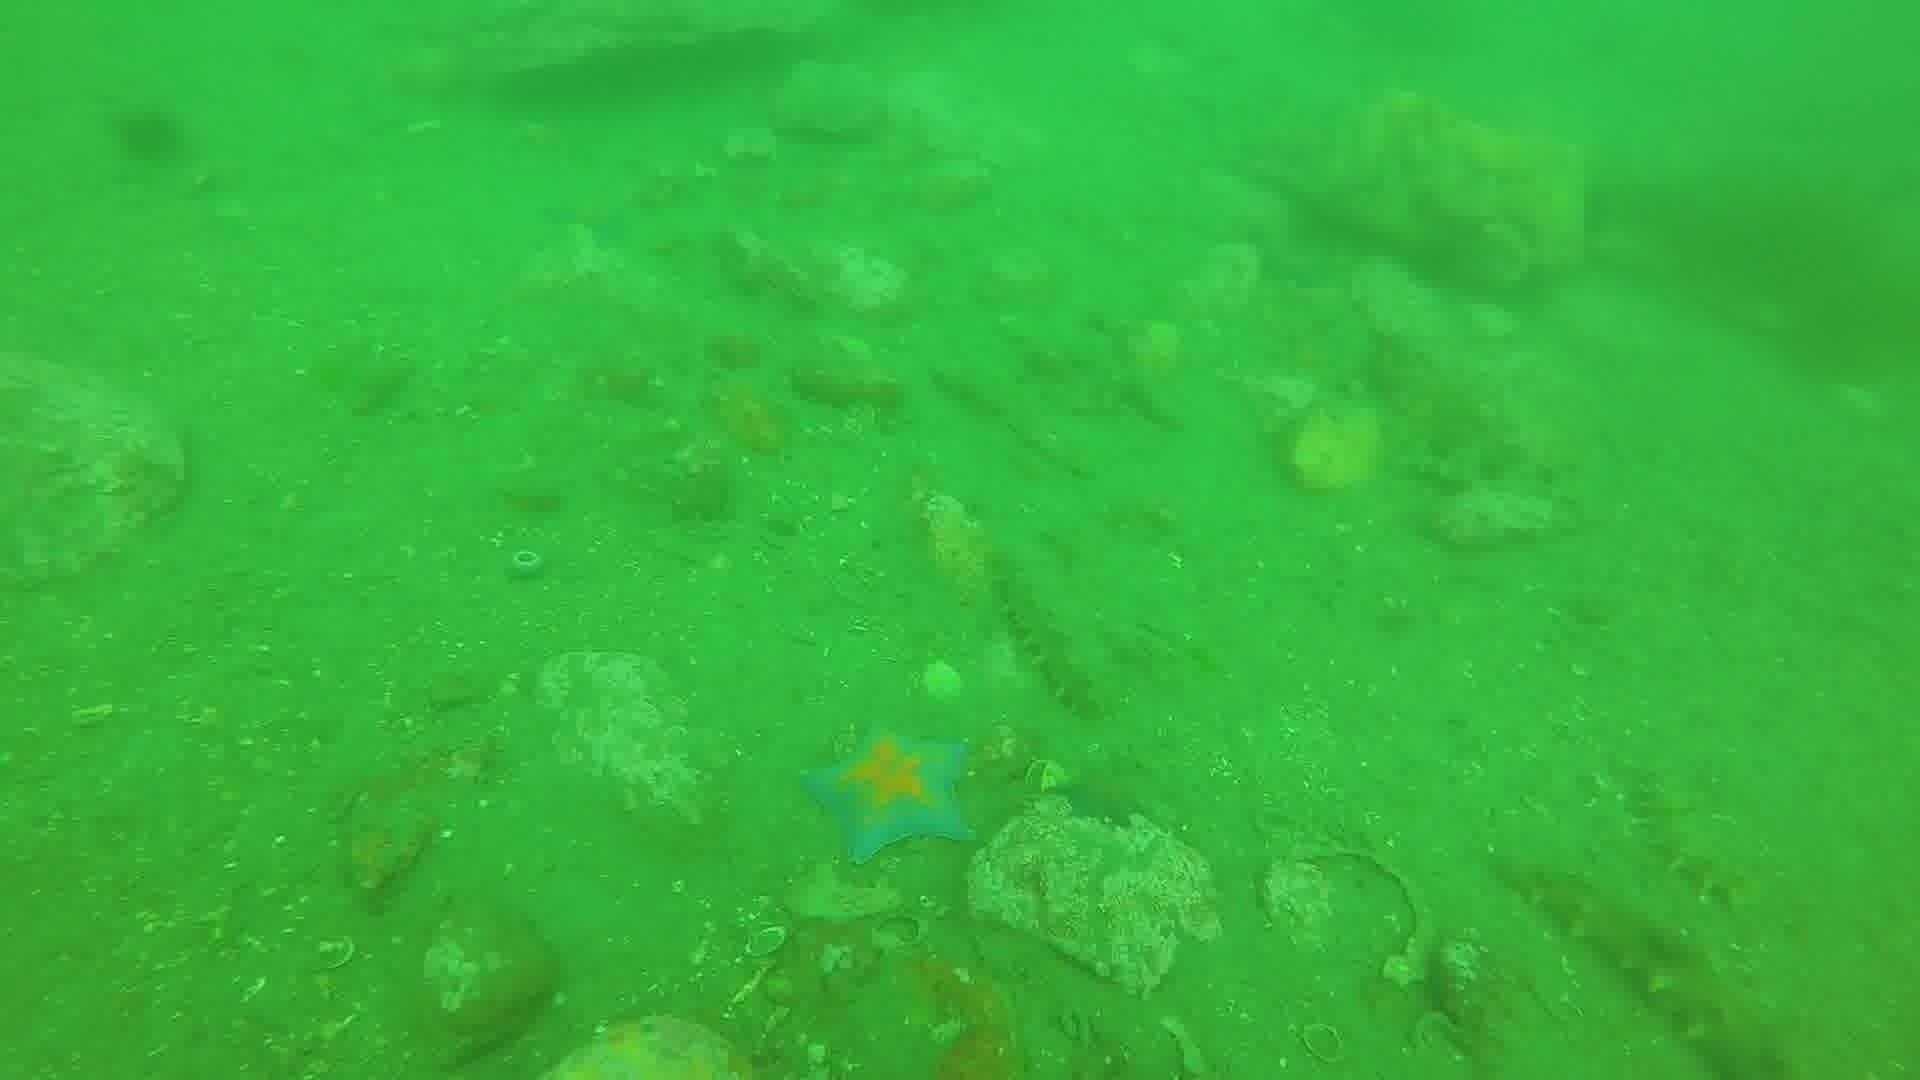echinus: (109, 102, 189, 169)
holothurian: (1501, 843, 1789, 1077), (985, 553, 1116, 721), (1626, 760, 1758, 913)
starfish: (798, 723, 980, 866), (1052, 764, 1160, 835)
